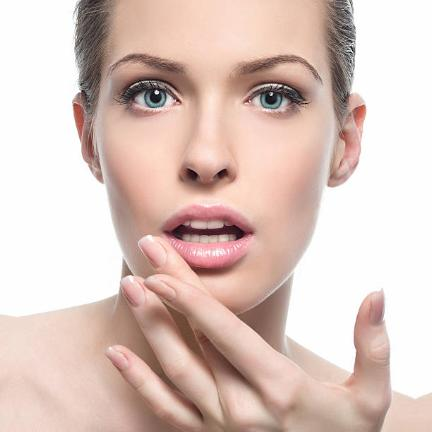Nail: (136, 235, 165, 267), (143, 277, 175, 301), (121, 276, 144, 305), (104, 347, 127, 369), (370, 290, 384, 324)
